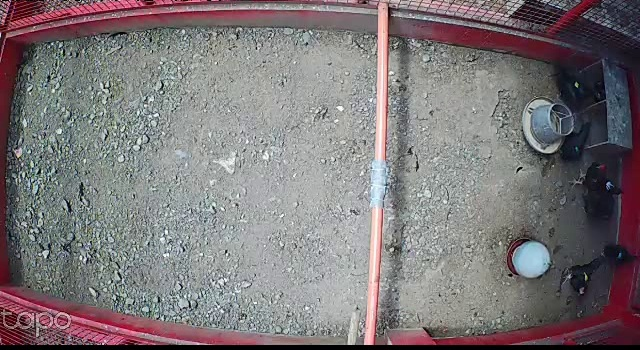Chicken: (556, 66, 608, 117), (575, 176, 622, 223), (558, 254, 604, 299), (557, 122, 591, 167), (599, 235, 640, 268)
Rooster: (567, 162, 631, 199)
Saddle_Color_Blue: (617, 252, 622, 259)
Saddle_Color_Yellow: (584, 271, 590, 281)
Saddle_Color_YellowGreen: (575, 81, 580, 91)
